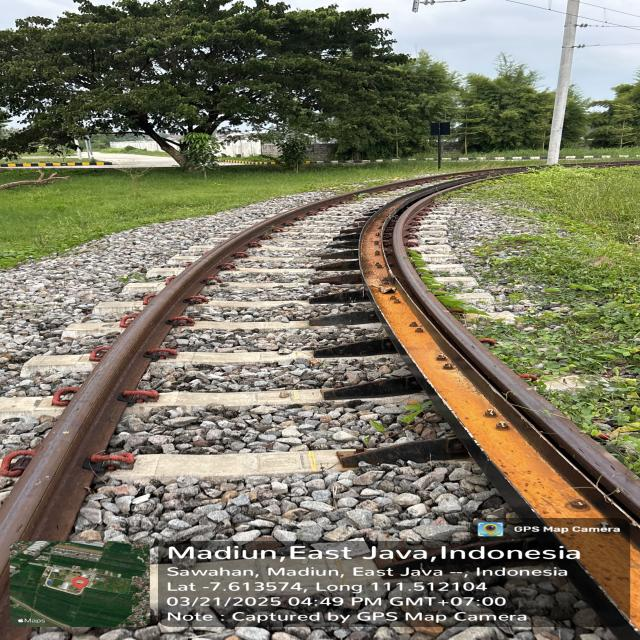rail-detection: (0, 201, 329, 570), (393, 203, 640, 511)
